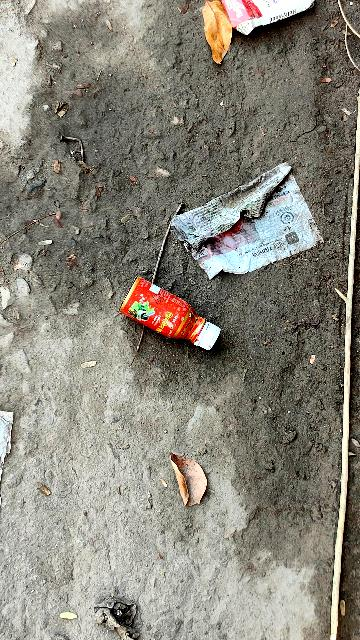bottle: (103, 256, 246, 374)
